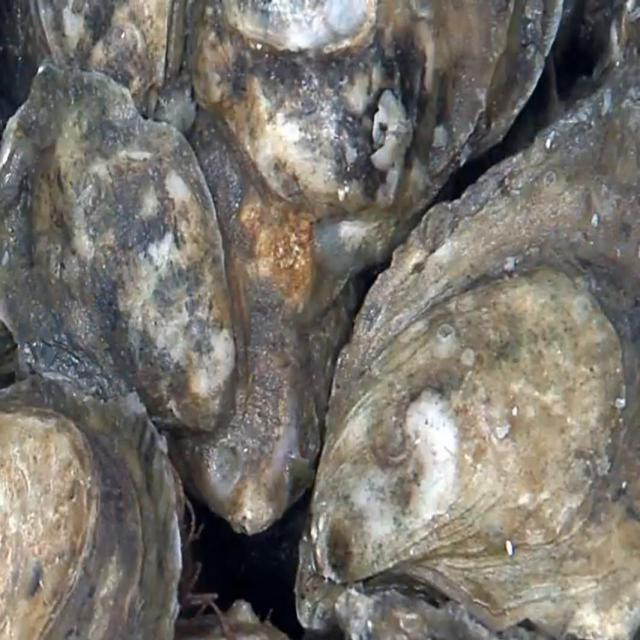Oyster- Indeterminate: (296, 62, 640, 640), (0, 63, 248, 437), (185, 0, 519, 270), (168, 117, 356, 530), (0, 376, 181, 640), (27, 0, 191, 125), (461, 0, 570, 164)
